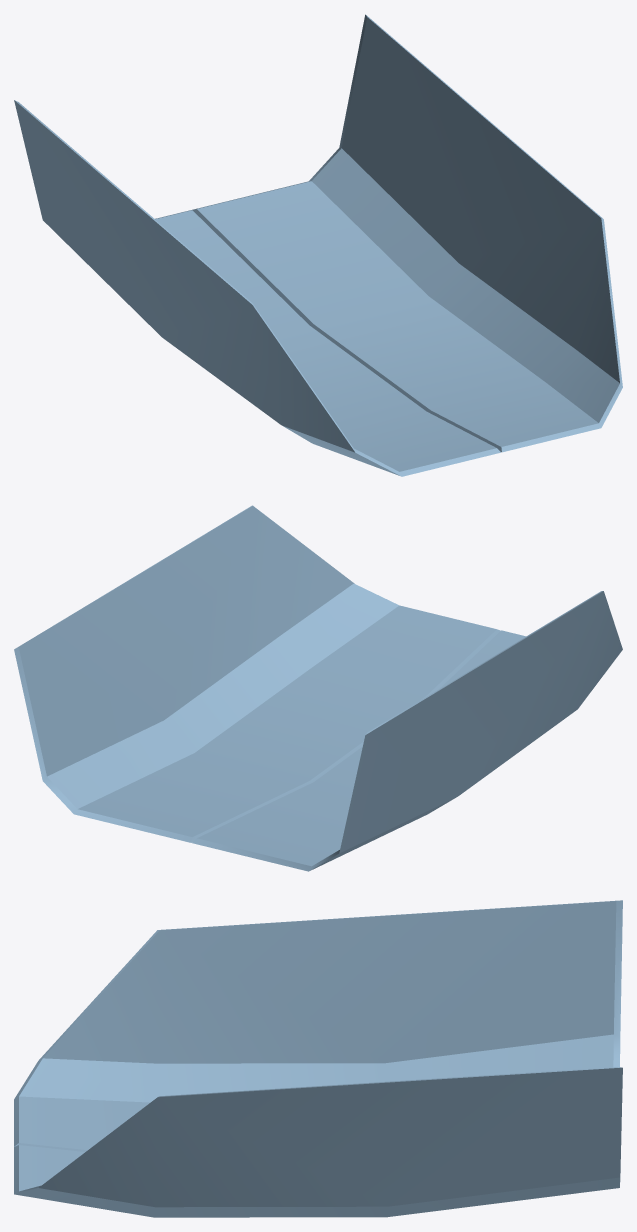
File: chassis FR static cap.FBX
3 renders of one model, top to bottom at view 1: azimuth 30°, elevation 25°; view 2: azimuth 150°, elevation 25°; view 3: azimuth 270°, elevation 25°, orthographic. The views are drawn at different scales.
Visible parts, largest first — view 1: Object123; view 2: Object123; view 3: Object123.
Boxes of the visible parts, box(x1,y1,x2,y2) form: Object123: box(14, 14, 622, 476); Object123: box(14, 505, 622, 871); Object123: box(14, 900, 622, 1217).
Size of the model in its own units: 0.0283 by 0.0435 by 0.014.
